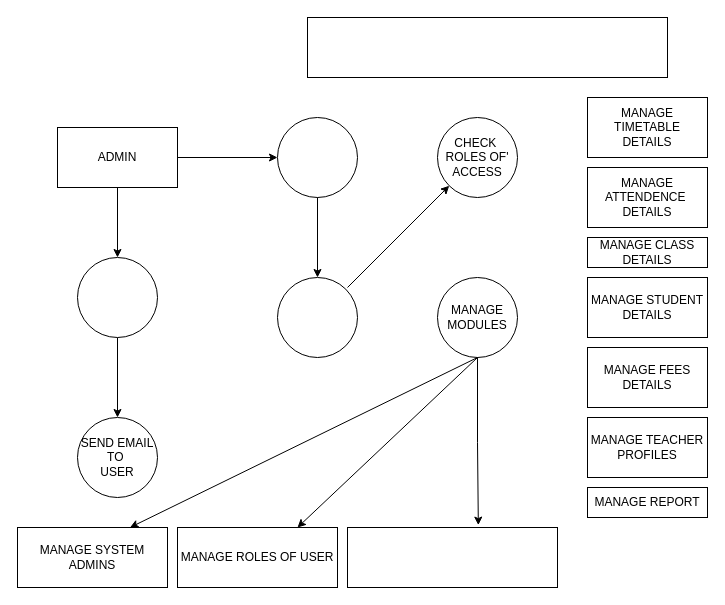
Some shapes in this 725 by 605 pixel diagram are drawn without their labels. Here are the shapes that lost their labels. From the top down, the centre of each, then its label:
At point (487, 47): "STUDENT INFORMATION SYSTEM".
At point (317, 157): "LOGIN TO SYSTEM".
At point (117, 297): "FORGET PASSWORD".
At point (317, 317): "CHECK CREDINTAILS".
At point (452, 557): "MANAGE USER PERMISSION".
